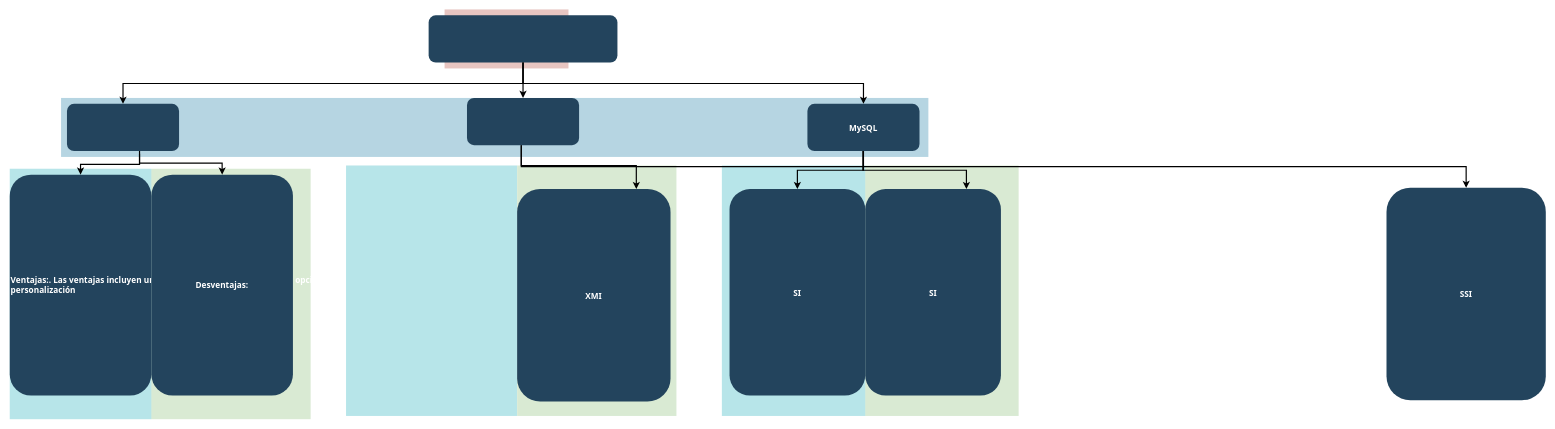
This 1555x429 diagram has some shape labels left out. Here are the shapes that lost their labels. From the top down, the centre of each, then its label:
At [522,38]: "Sistemas gestores de bases de datos".
At [123,127]: "Oracle".
At [523,121]: "Microsoft SQL Server".
